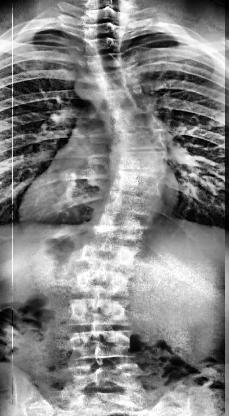Vertebrae: (64, 358, 144, 392), (66, 298, 132, 332), (66, 330, 134, 362), (78, 238, 140, 270), (69, 270, 131, 300), (88, 209, 154, 236), (107, 126, 171, 152), (110, 147, 172, 173), (107, 170, 167, 196), (102, 191, 158, 217), (102, 106, 160, 130), (92, 86, 146, 110), (80, 18, 130, 40), (84, 67, 134, 89), (82, 6, 130, 26), (82, 53, 130, 72), (80, 36, 126, 54)
